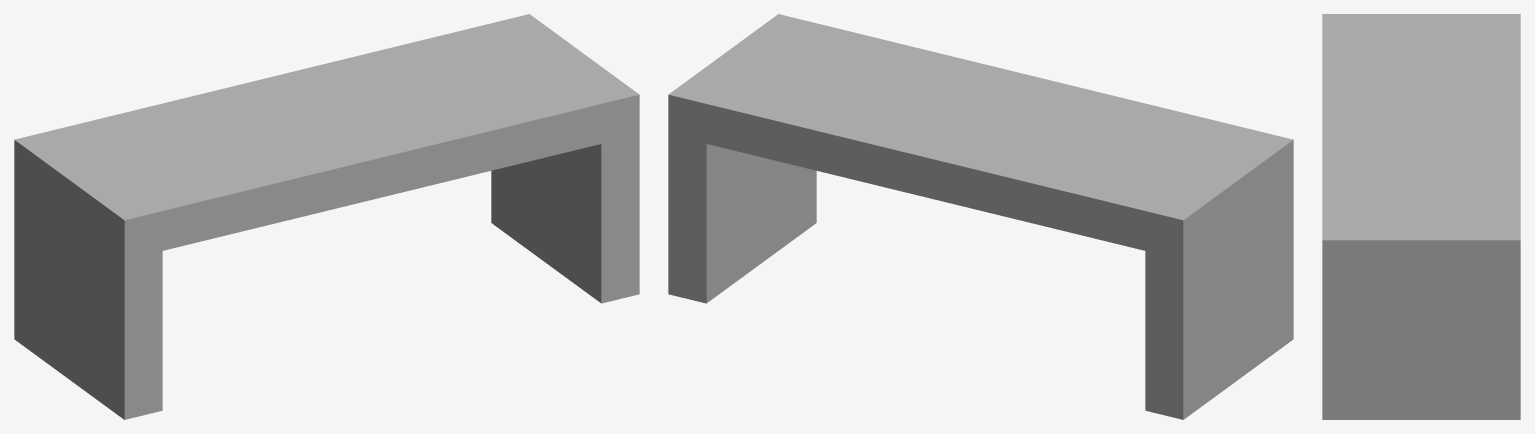
The model's file is others2-11.obj.
3 views of the same model, side by side, from view 1: azimuth 30°, elevation 25°; view 2: azimuth 150°, elevation 25°; view 3: azimuth 270°, elevation 25° (orthographic). The views are drawn at different scales.
Size of the model in its own units: 5.4 by 2 by 2.
1 material, 1 textured.
